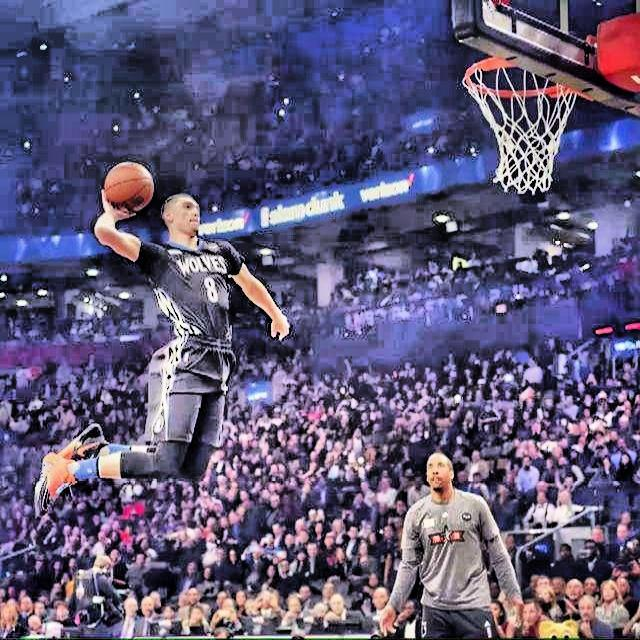board: (104, 161, 155, 215)
rim: (463, 57, 579, 193)
